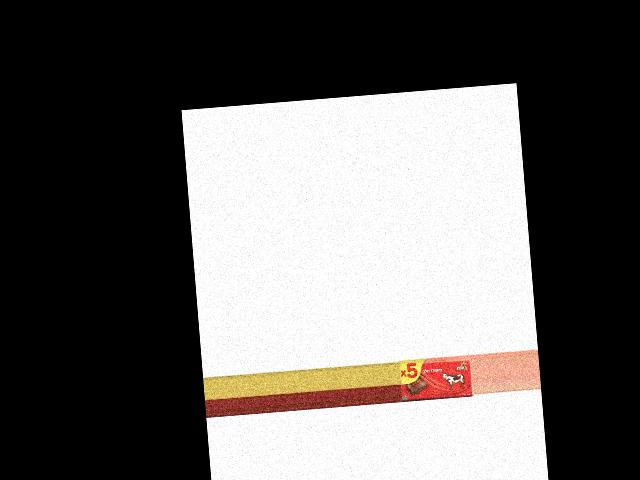chocolate: (398, 353, 475, 401)
